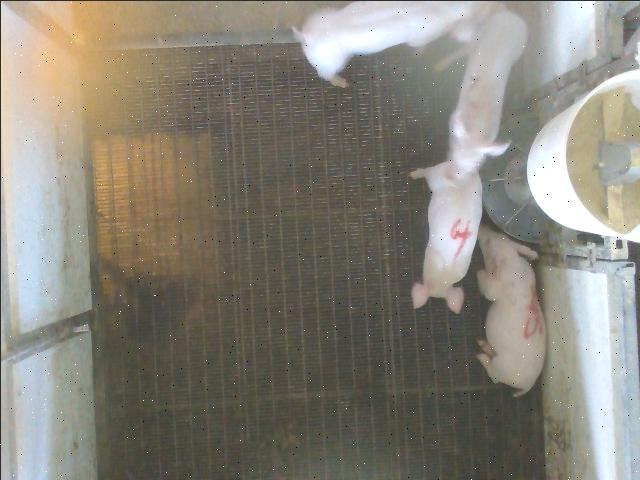pig-2: (449, 7, 526, 172)
pig-4: (410, 161, 481, 312)
pig-5: (476, 224, 545, 395)
